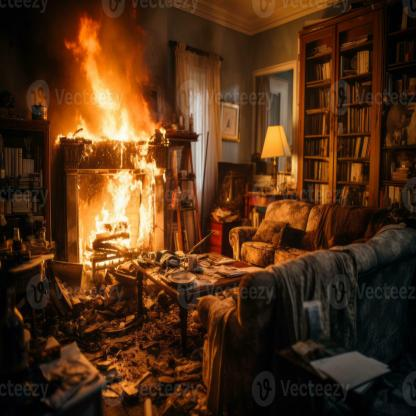fire: (56, 13, 168, 268)
smoke: (110, 0, 218, 98)
